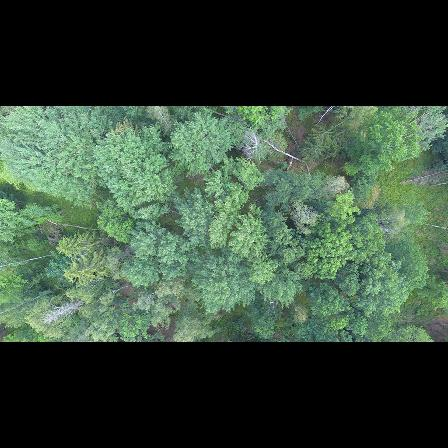Dead: (41, 296, 84, 325), (239, 129, 267, 164), (322, 172, 353, 196)
